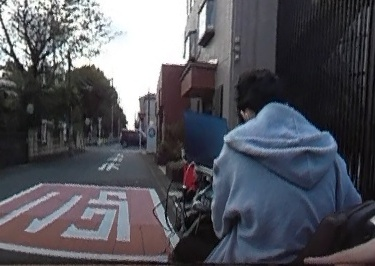person: (205, 69, 355, 266)
